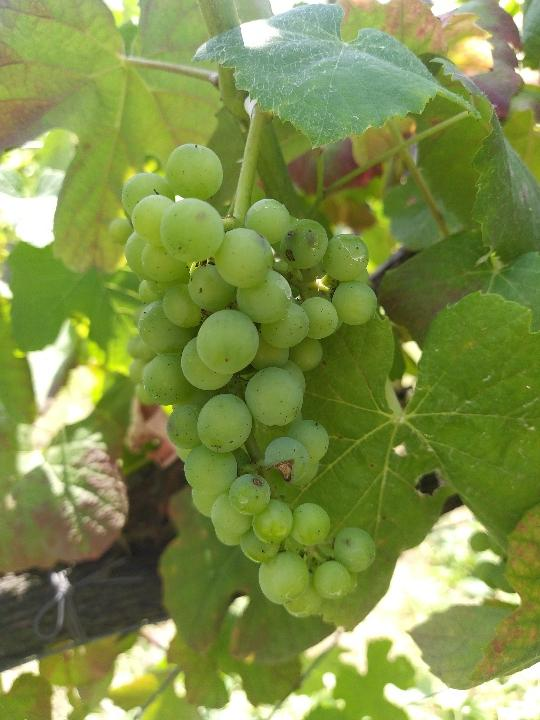grape: (104, 139, 378, 622)
